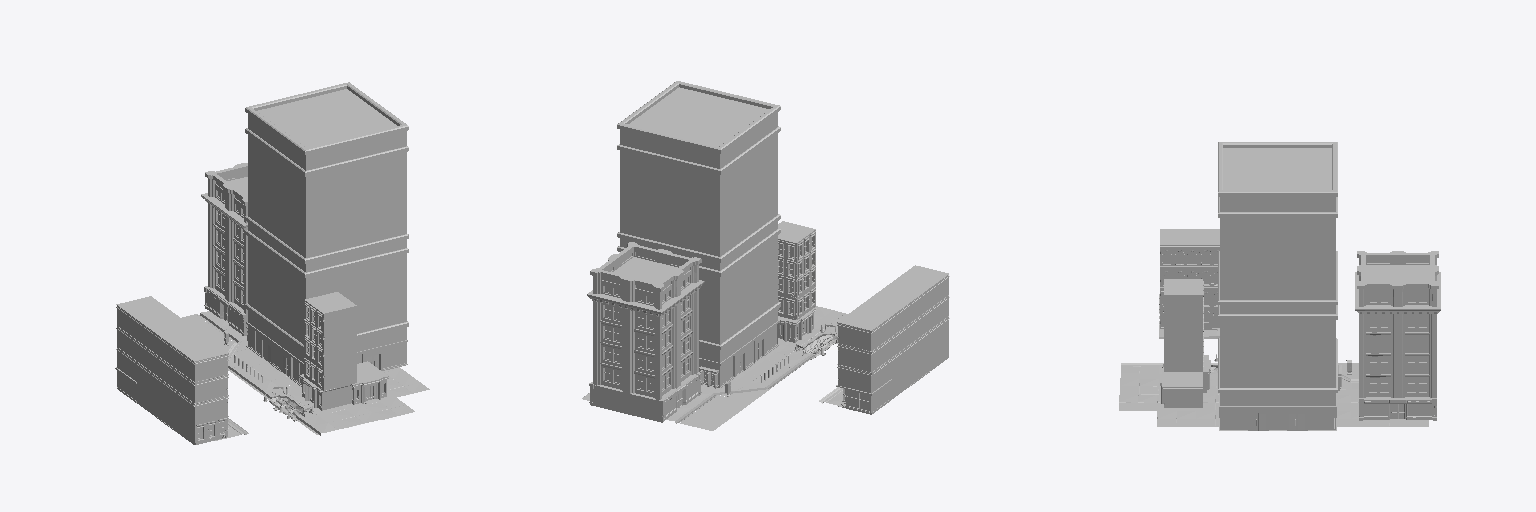
File: StartChunk.obj
3 views of the same model, side by side, from view 1: azimuth 30°, elevation 25°; view 2: azimuth 150°, elevation 25°; view 3: azimuth 270°, elevation 25° (orthographic).
Visible parts, largest first — view 1: SM_Bld_OfficeSquare_01_Scene.019, SM_Bld_OfficeSquare_Roof_01_Scene.018, SM_Bld_Apartment_Stack_02_Scene.035, SM_Bld_OfficeOld_Small_Roof_01_Scene.025, SM_Bld_Apartment_Stack_02_(3)_Scene.035, SM_Bld_Apartment_Stack_02_(1)_Scene.035, SM_Bld_Apartment_Stack_02_(2)_Scene.035, SM_Bld_Apartment_Corner_01_(3)_Scene.032, SM_Bld_OfficeSquare_Base_01_Glass_Scene.017, SM_Bld_Apartment_Door_Corner_01_(1)_Scene.033, SM_Bld_OfficeSquare_Base_02_Scene.016, SM_Bld_Apartment_Corner_01_Scene.032 (+21 smaller); view 2: SM_Bld_OfficeSquare_01_Scene.019, SM_Bld_OfficeSquare_Roof_01_Scene.018, SM_Bld_OfficeOld_Small_Roof_01_Scene.025, SM_Bld_Apartment_Stack_02_(3)_Scene.035, SM_Bld_OfficeOld_Small_Floor_01_Scene.024, SM_Bld_OfficeOld_Small_Floor_02_Scene.024, SM_Bld_OfficeOld_Small_Floor_03_Scene.024, SM_Bld_Apartment_Stack_02_(1)_Scene.035, SM_Bld_OfficeOld_Small_Floor_04_Scene.024, SM_Bld_Apartment_Stack_02_Scene.035, SM_Bld_Apartment_Stack_02_(2)_Scene.035, SM_Bld_Shop_46_Scene.022 (+17 smaller); view 3: SM_Bld_OfficeSquare_01_Scene.019, SM_Bld_OfficeSquare_Roof_01_Scene.018, SM_Bld_OfficeOld_Small_Roof_01_Scene.025, SM_Bld_Apartment_Stack_02_Scene.035, SM_Bld_OfficeOld_Small_Floor_01_Scene.024, SM_Bld_OfficeSquare_Base_01_Glass_Scene.017, SM_Bld_OfficeOld_Small_Floor_02_Scene.024, SM_Bld_OfficeOld_Small_Floor_03_Scene.024, SM_Bld_Apartment_Door_Corner_01_(1)_Scene.033, SM_Bld_OfficeOld_Small_Floor_04_Scene.024, SM_Bld_Apartment_Stack_02_(1)_Scene.035, SM_Bld_Apartment_Corner_01_(3)_Scene.032 (+14 smaller).
Part boxes in pixels (x1,y1,x2,y2): SM_Bld_OfficeSquare_01_Scene.019: (248, 114, 406, 362); SM_Bld_OfficeSquare_Roof_01_Scene.018: (245, 82, 408, 154); SM_Bld_Apartment_Stack_02_Scene.035: (174, 339, 228, 423); SM_Bld_OfficeOld_Small_Roof_01_Scene.025: (201, 163, 247, 229); SM_Bld_Apartment_Stack_02_(3)_Scene.035: (116, 296, 168, 381); SM_Bld_Apartment_Stack_02_(1)_Scene.035: (155, 324, 208, 409); SM_Bld_Apartment_Stack_02_(2)_Scene.035: (136, 310, 188, 395); SM_Bld_Apartment_Corner_01_(3)_Scene.032: (304, 292, 356, 334); SM_Bld_OfficeSquare_Base_01_Glass_Scene.017: (249, 326, 404, 383); SM_Bld_Apartment_Door_Corner_01_(1)_Scene.033: (350, 361, 388, 404); SM_Bld_OfficeSquare_Base_02_Scene.016: (246, 322, 407, 386); SM_Bld_Apartment_Corner_01_Scene.032: (304, 356, 356, 390); SM_Bld_OfficeSquare_01_Scene.019: (620, 113, 777, 362); SM_Bld_OfficeSquare_Roof_01_Scene.018: (617, 81, 780, 153); SM_Bld_OfficeOld_Small_Roof_01_Scene.025: (587, 242, 704, 316); SM_Bld_Apartment_Stack_02_(3)_Scene.035: (837, 308, 891, 393); SM_Bld_OfficeOld_Small_Floor_01_Scene.024: (593, 352, 698, 400); SM_Bld_OfficeOld_Small_Floor_02_Scene.024: (593, 331, 698, 379); SM_Bld_OfficeOld_Small_Floor_03_Scene.024: (593, 310, 698, 358); SM_Bld_Apartment_Stack_02_(1)_Scene.035: (876, 280, 929, 364); SM_Bld_OfficeOld_Small_Floor_04_Scene.024: (593, 290, 698, 337); SM_Bld_Apartment_Stack_02_Scene.035: (896, 265, 949, 349); SM_Bld_Apartment_Stack_02_(2)_Scene.035: (857, 294, 910, 378); SM_Bld_Shop_46_Scene.022: (626, 372, 701, 422); SM_Bld_OfficeSquare_01_Scene.019: (1220, 197, 1335, 405); SM_Bld_OfficeSquare_Roof_01_Scene.018: (1218, 142, 1337, 196); SM_Bld_OfficeOld_Small_Roof_01_Scene.025: (1355, 251, 1440, 313); SM_Bld_Apartment_Stack_02_Scene.035: (1160, 229, 1199, 307); SM_Bld_OfficeOld_Small_Floor_01_Scene.024: (1359, 374, 1436, 397); SM_Bld_OfficeSquare_Base_01_Glass_Scene.017: (1221, 409, 1333, 429); SM_Bld_OfficeOld_Small_Floor_02_Scene.024: (1359, 353, 1436, 376); SM_Bld_OfficeOld_Small_Floor_03_Scene.024: (1359, 332, 1436, 355); SM_Bld_Apartment_Door_Corner_01_(1)_Scene.033: (1160, 370, 1202, 407); SM_Bld_OfficeOld_Small_Floor_04_Scene.024: (1359, 314, 1436, 334); SM_Bld_Apartment_Stack_02_(1)_Scene.035: (1198, 229, 1219, 307); SM_Bld_Apartment_Corner_01_(3)_Scene.032: (1164, 279, 1203, 315).
Bounding box in the file's own units: 36.45 × 35.17 × 41.65.